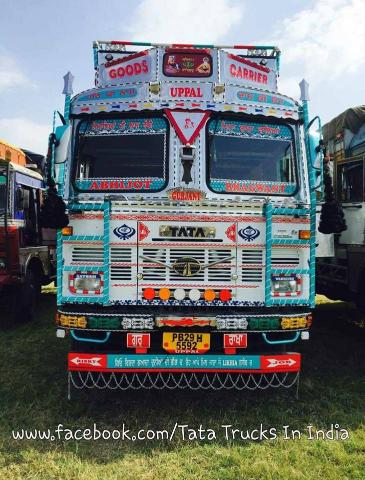truck: (51, 26, 332, 413), (0, 141, 55, 314)
